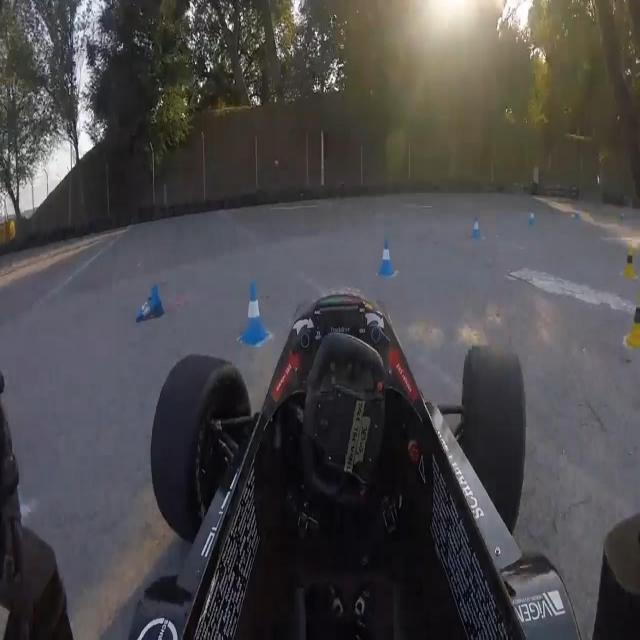blue_cone: (240, 275, 272, 353), (126, 278, 168, 329), (379, 230, 395, 284), (471, 212, 482, 242), (527, 206, 537, 228), (574, 204, 582, 228), (617, 210, 625, 222)
yellow_cone: (626, 291, 640, 349), (624, 236, 638, 284)
